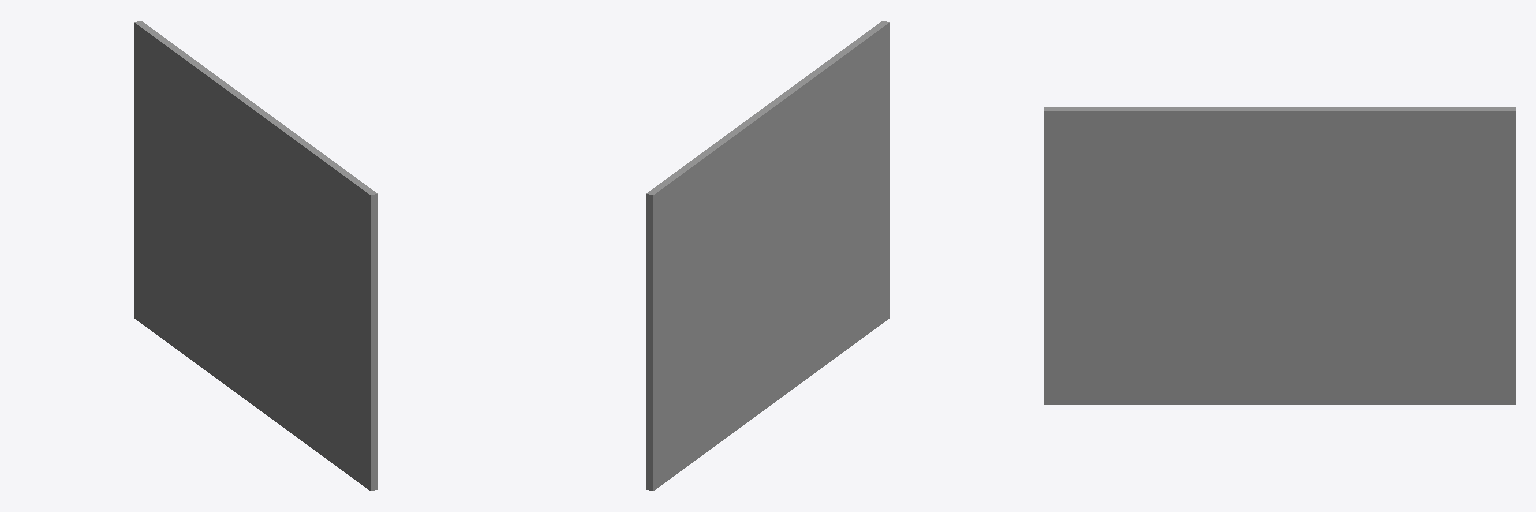
URDF robot description (slab3):
<robot name="slab3">
  <link name="slab3">

    <inertial>
      <origin xyz="0 0 0" />
      <mass value="0.1" />
      <inertia  ixx="0.00003375" ixy="0.0"  ixz="0.0"  iyy="0.00003375"  iyz="0.0"  izz="0.00003375" />
    </inertial>

    <visual>
      <origin xyz="0 0 0"/>
      <geometry>
        <box size="0.005 0.29 0.2" />
      </geometry>
      <material name="white">
        <color rgba="0.65 0.65 0.65 1.0"/>
      </material>
    </visual>

    <collision>
      <origin xyz="0 0 0"/>
      <geometry>
        <box size="0.005 0.29 0.2" />
      </geometry>
    </collision>
  </link>
</robot>

--- What the picture shows (computed from the rendered views, not written in the file) ---
Views: 3 orthographic renders of the robot side by side, from view 1: azimuth 30°, elevation 25°; view 2: azimuth 150°, elevation 25°; view 3: azimuth 270°, elevation 25°.
Robot: slab3 — 1 links, 0 joints (none); root link slab3; default pose: every joint at zero.
Visible links, largest first — view 1: slab3; view 2: slab3; view 3: slab3.
Boxes of the visible links, x1=… form: slab3: x1=134, y1=21, x2=377, y2=490; slab3: x1=646, y1=21, x2=889, y2=490; slab3: x1=1044, y1=107, x2=1515, y2=404.
Size in the robot's own frame: 0.005 by 0.29 by 0.2 metres.
Geometry: primitives only (box / cylinder / sphere), no mesh files.